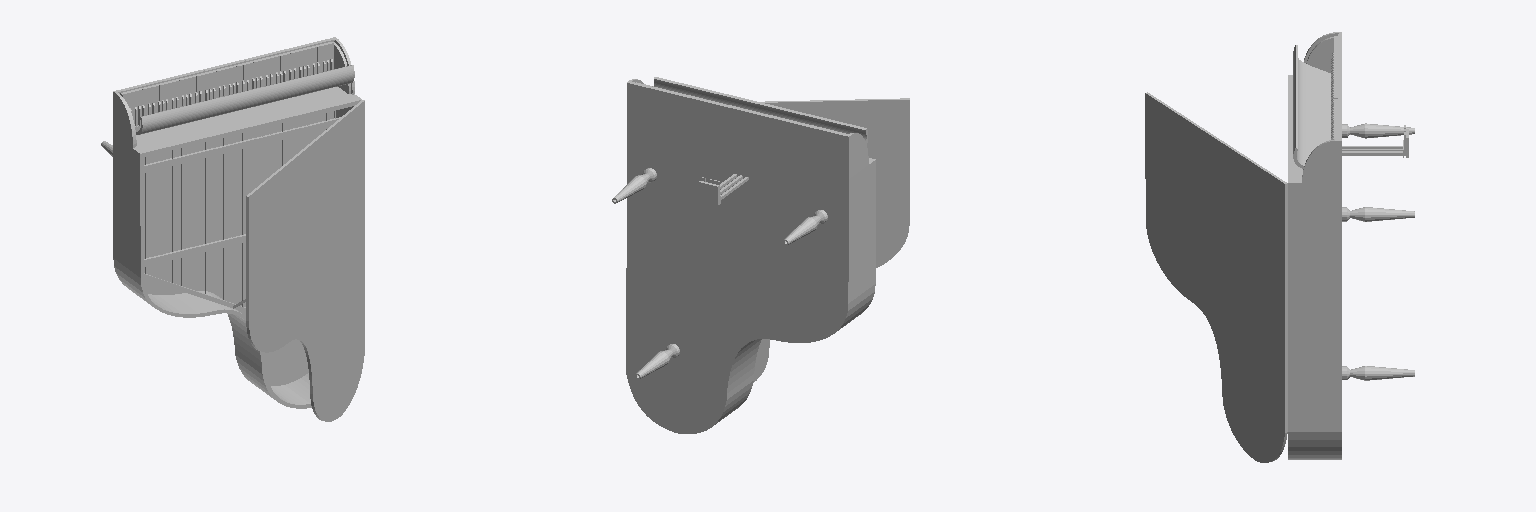
The model's file is mus001.obj.
3 views of the same model, side by side, from view 1: azimuth 30°, elevation 25°; view 2: azimuth 150°, elevation 25°; view 3: azimuth 270°, elevation 25° (orthographic).
Visible parts, largest first — view 1: Rectangl14, Rectangl15, Rectangle7, Rectangle0, Rectangle1, Rectangl12, Rectangle3; view 2: Rectangl15, Rectangle6, Rectangl14, Rectangle7, Rectangle0, Rectangle3, Circle05, Circle04, Circle06; view 3: Rectangl14, Rectangle7, Rectangle0, Rectangle4, Circle04, Circle06, Circle05, Rectangle9.
Part boxes in pixels (left/top/right/bottom): Rectangl14: left=246, top=100, right=364, bottom=421; Rectangl15: left=113, top=111, right=333, bottom=385; Rectangle7: left=113, top=87, right=361, bottom=408; Rectangle0: left=136, top=65, right=354, bottom=134; Rectangle1: left=144, top=117, right=340, bottom=172; Rectangl12: left=144, top=234, right=245, bottom=266; Rectangle3: left=113, top=91, right=135, bottom=147; Rectangl15: left=626, top=125, right=849, bottom=433; Rectangle6: left=629, top=82, right=849, bottom=178; Rectangl14: left=753, top=98, right=909, bottom=382; Rectangle7: left=716, top=158, right=875, bottom=423; Rectangle0: left=654, top=77, right=867, bottom=143; Rectangle3: left=846, top=133, right=868, bottom=178; Circle05: left=783, top=210, right=827, bottom=245; Circle04: left=612, top=168, right=656, bottom=203; Circle06: left=635, top=344, right=679, bottom=379; Rectangl14: left=1145, top=92, right=1287, bottom=462; Rectangle7: left=1288, top=75, right=1341, bottom=459; Rectangle0: left=1293, top=45, right=1330, bottom=168; Rectangle4: left=1302, top=139, right=1341, bottom=182; Circle04: left=1342, top=207, right=1414, bottom=221; Circle06: left=1342, top=366, right=1414, bottom=380; Circle05: left=1342, top=123, right=1414, bottom=138; Rectangle9: left=1306, top=37, right=1333, bottom=72.
Bounding box in the file's own units: 1886 × 2727 × 1965.